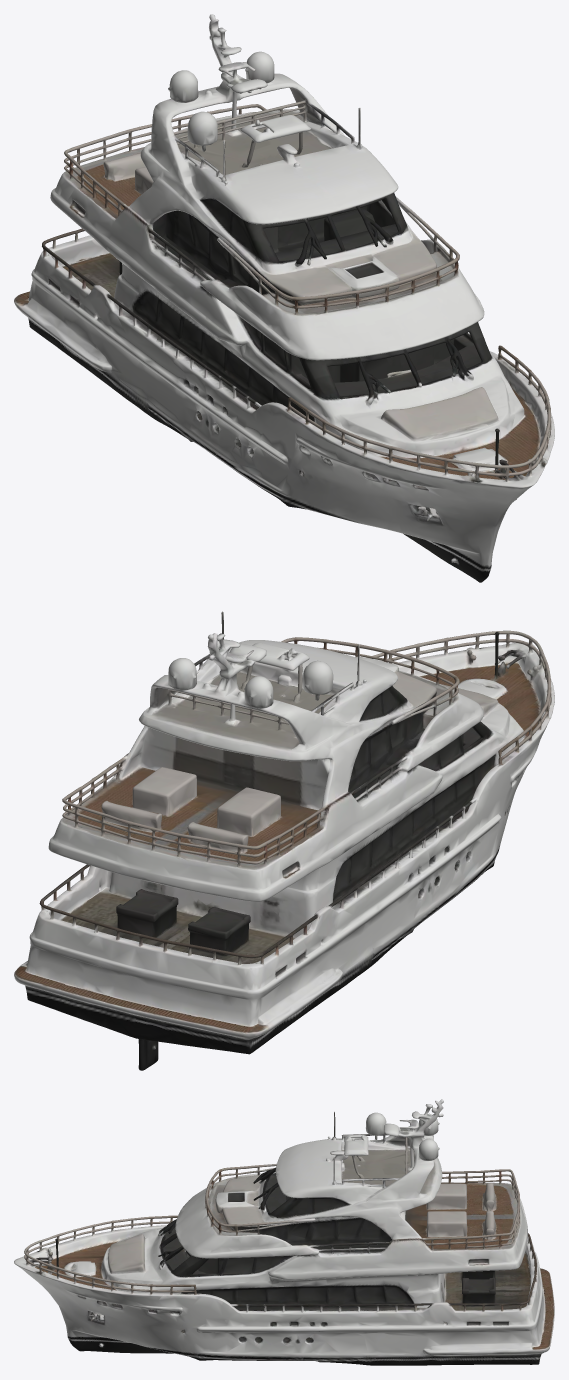
The model's file is 092_luxury_yacht_white.glb.
3 renders of one model, top to bottom at view 1: azimuth 30°, elevation 25°; view 2: azimuth 150°, elevation 25°; view 3: azimuth 270°, elevation 25°, orthographic. The views are drawn at different scales.
Parts seen in each view (by area): view 1: geometry_0; view 2: geometry_0; view 3: geometry_0.
Boxes of the visible parts, box(x1,y1,x2,y2) form: geometry_0: box(14, 14, 554, 582); geometry_0: box(14, 611, 554, 1070); geometry_0: box(14, 1099, 554, 1365).
Bounding box in the file's own units: 5.41 × 7.92 × 15.
Materials: 1 (1 with a texture image).
